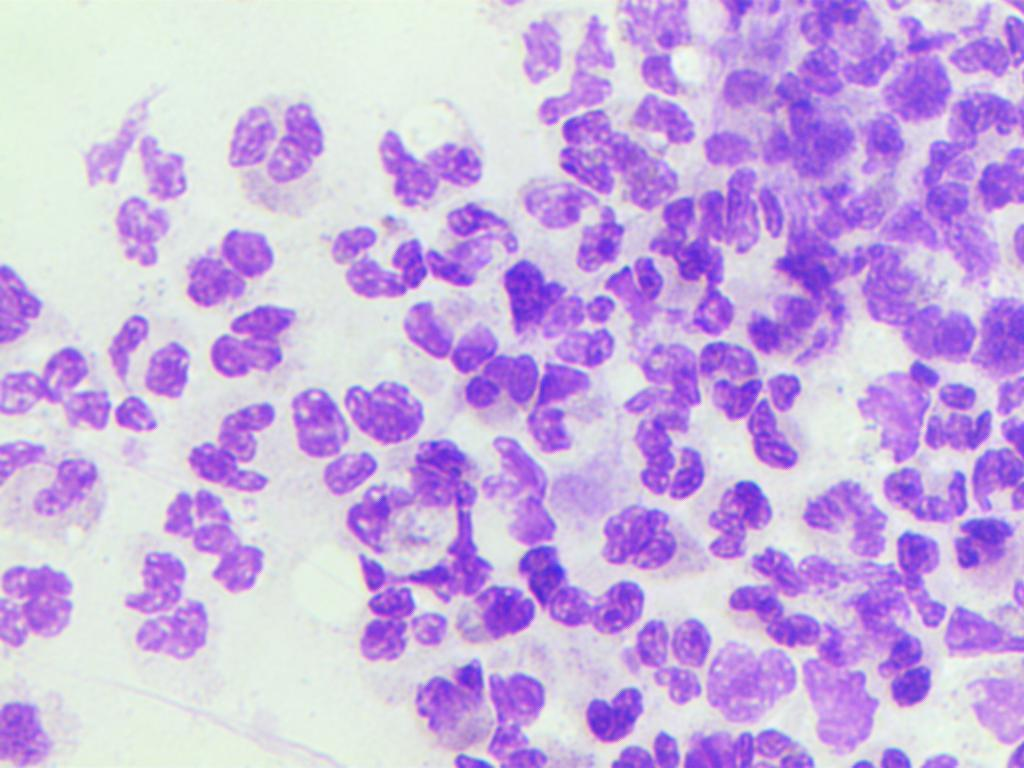neutrophil: (154, 466, 275, 613), (921, 81, 1024, 245), (748, 215, 851, 379), (92, 107, 186, 275), (165, 378, 282, 510), (612, 222, 739, 342), (375, 82, 491, 212), (217, 88, 328, 222), (650, 166, 822, 252), (104, 298, 200, 452), (499, 255, 623, 374), (547, 114, 690, 217), (720, 545, 845, 661), (517, 538, 647, 645), (116, 535, 215, 675), (281, 381, 394, 502), (507, 171, 627, 278), (849, 569, 937, 713), (508, 8, 624, 114), (693, 52, 795, 172), (162, 221, 290, 316), (870, 244, 971, 361), (610, 715, 828, 768), (575, 483, 688, 585), (630, 11, 710, 154), (0, 433, 104, 543), (477, 656, 577, 768), (322, 205, 434, 304), (343, 573, 455, 670), (525, 365, 617, 481), (0, 340, 110, 436), (478, 431, 574, 541), (784, 106, 914, 182), (339, 352, 434, 456), (621, 618, 726, 712), (204, 306, 319, 388), (911, 368, 1001, 466), (386, 300, 507, 372), (738, 362, 813, 475), (445, 342, 542, 429), (401, 658, 492, 746), (440, 568, 543, 645), (806, 468, 892, 560), (630, 411, 711, 508), (0, 562, 82, 651), (698, 330, 772, 427), (700, 478, 781, 564), (878, 457, 980, 525), (951, 505, 1024, 591), (931, 16, 1024, 83), (582, 655, 649, 748), (0, 238, 54, 349), (968, 432, 1020, 543), (979, 284, 1024, 410)
